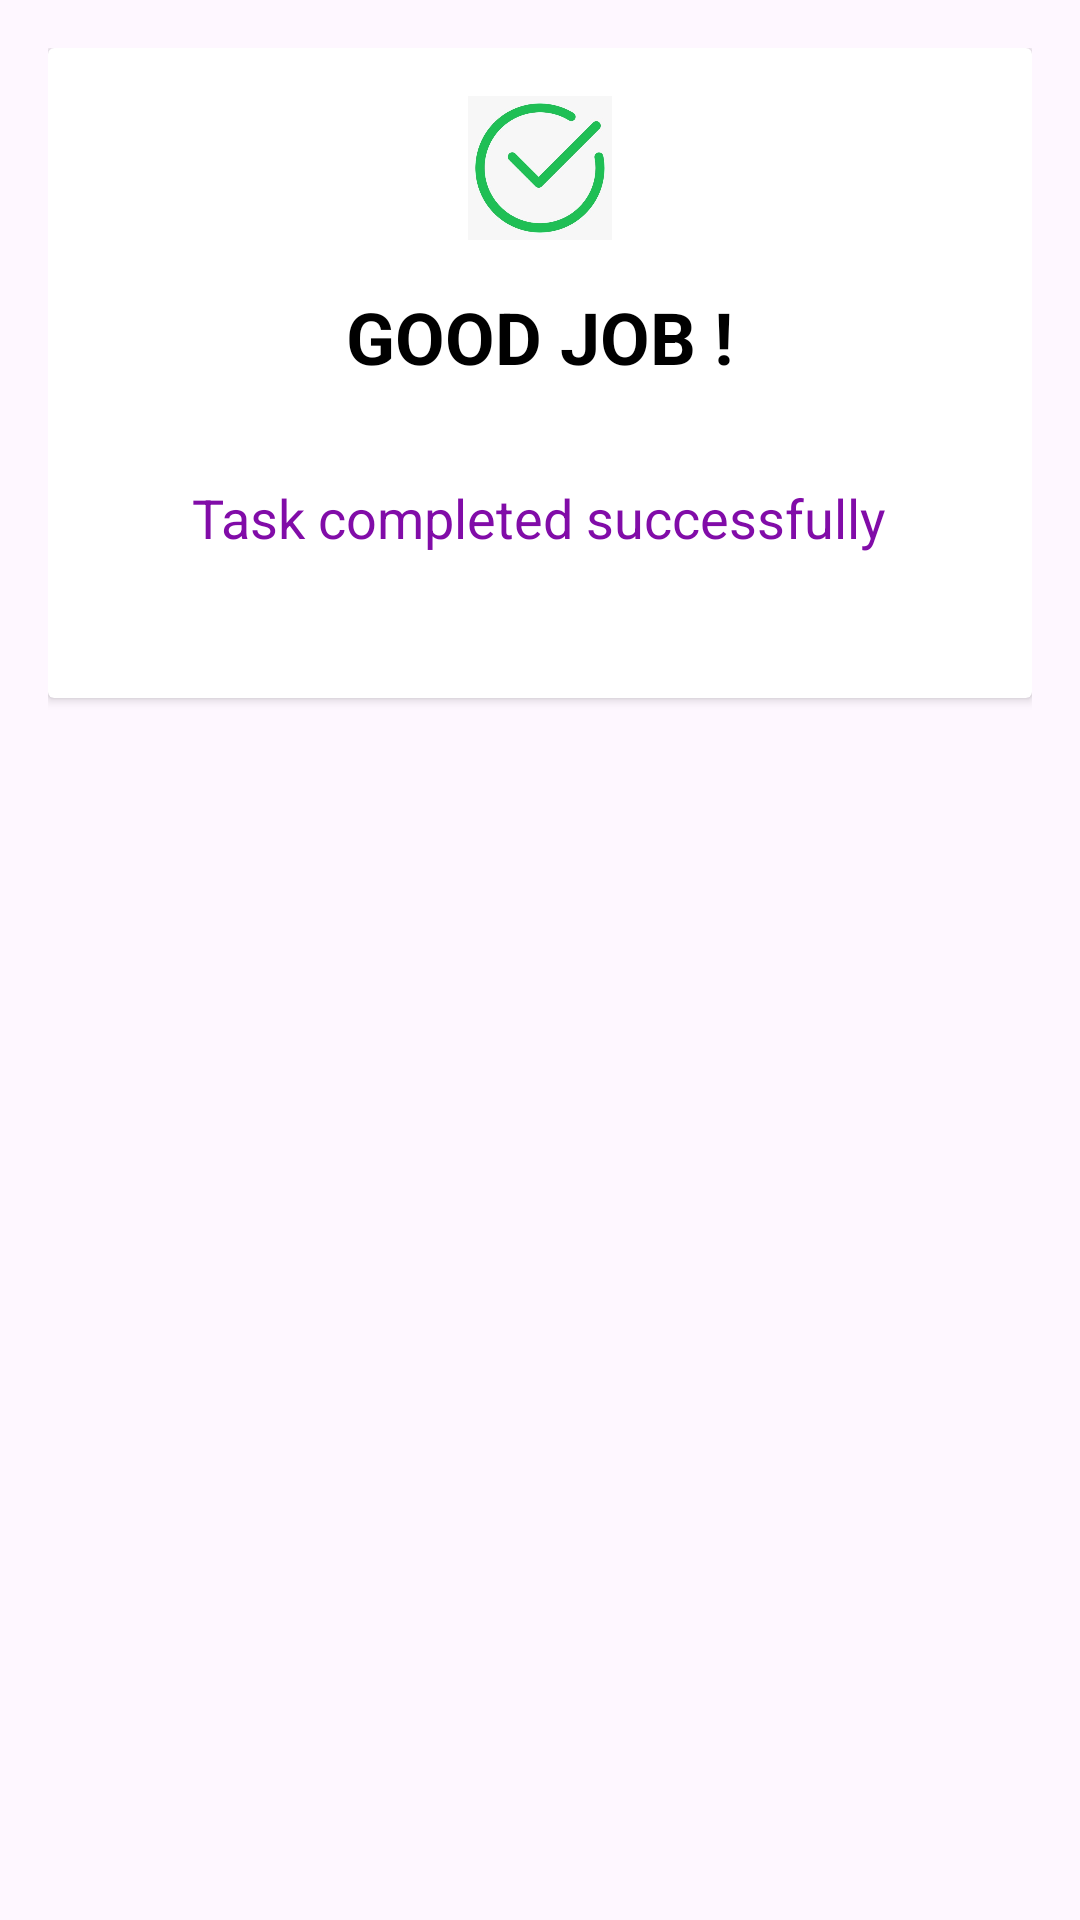

Screen size 1080×1920. Icon name, then its box in pixels as bbox(x1, y1, x2, y2):
done: bbox(475, 103, 605, 233)
